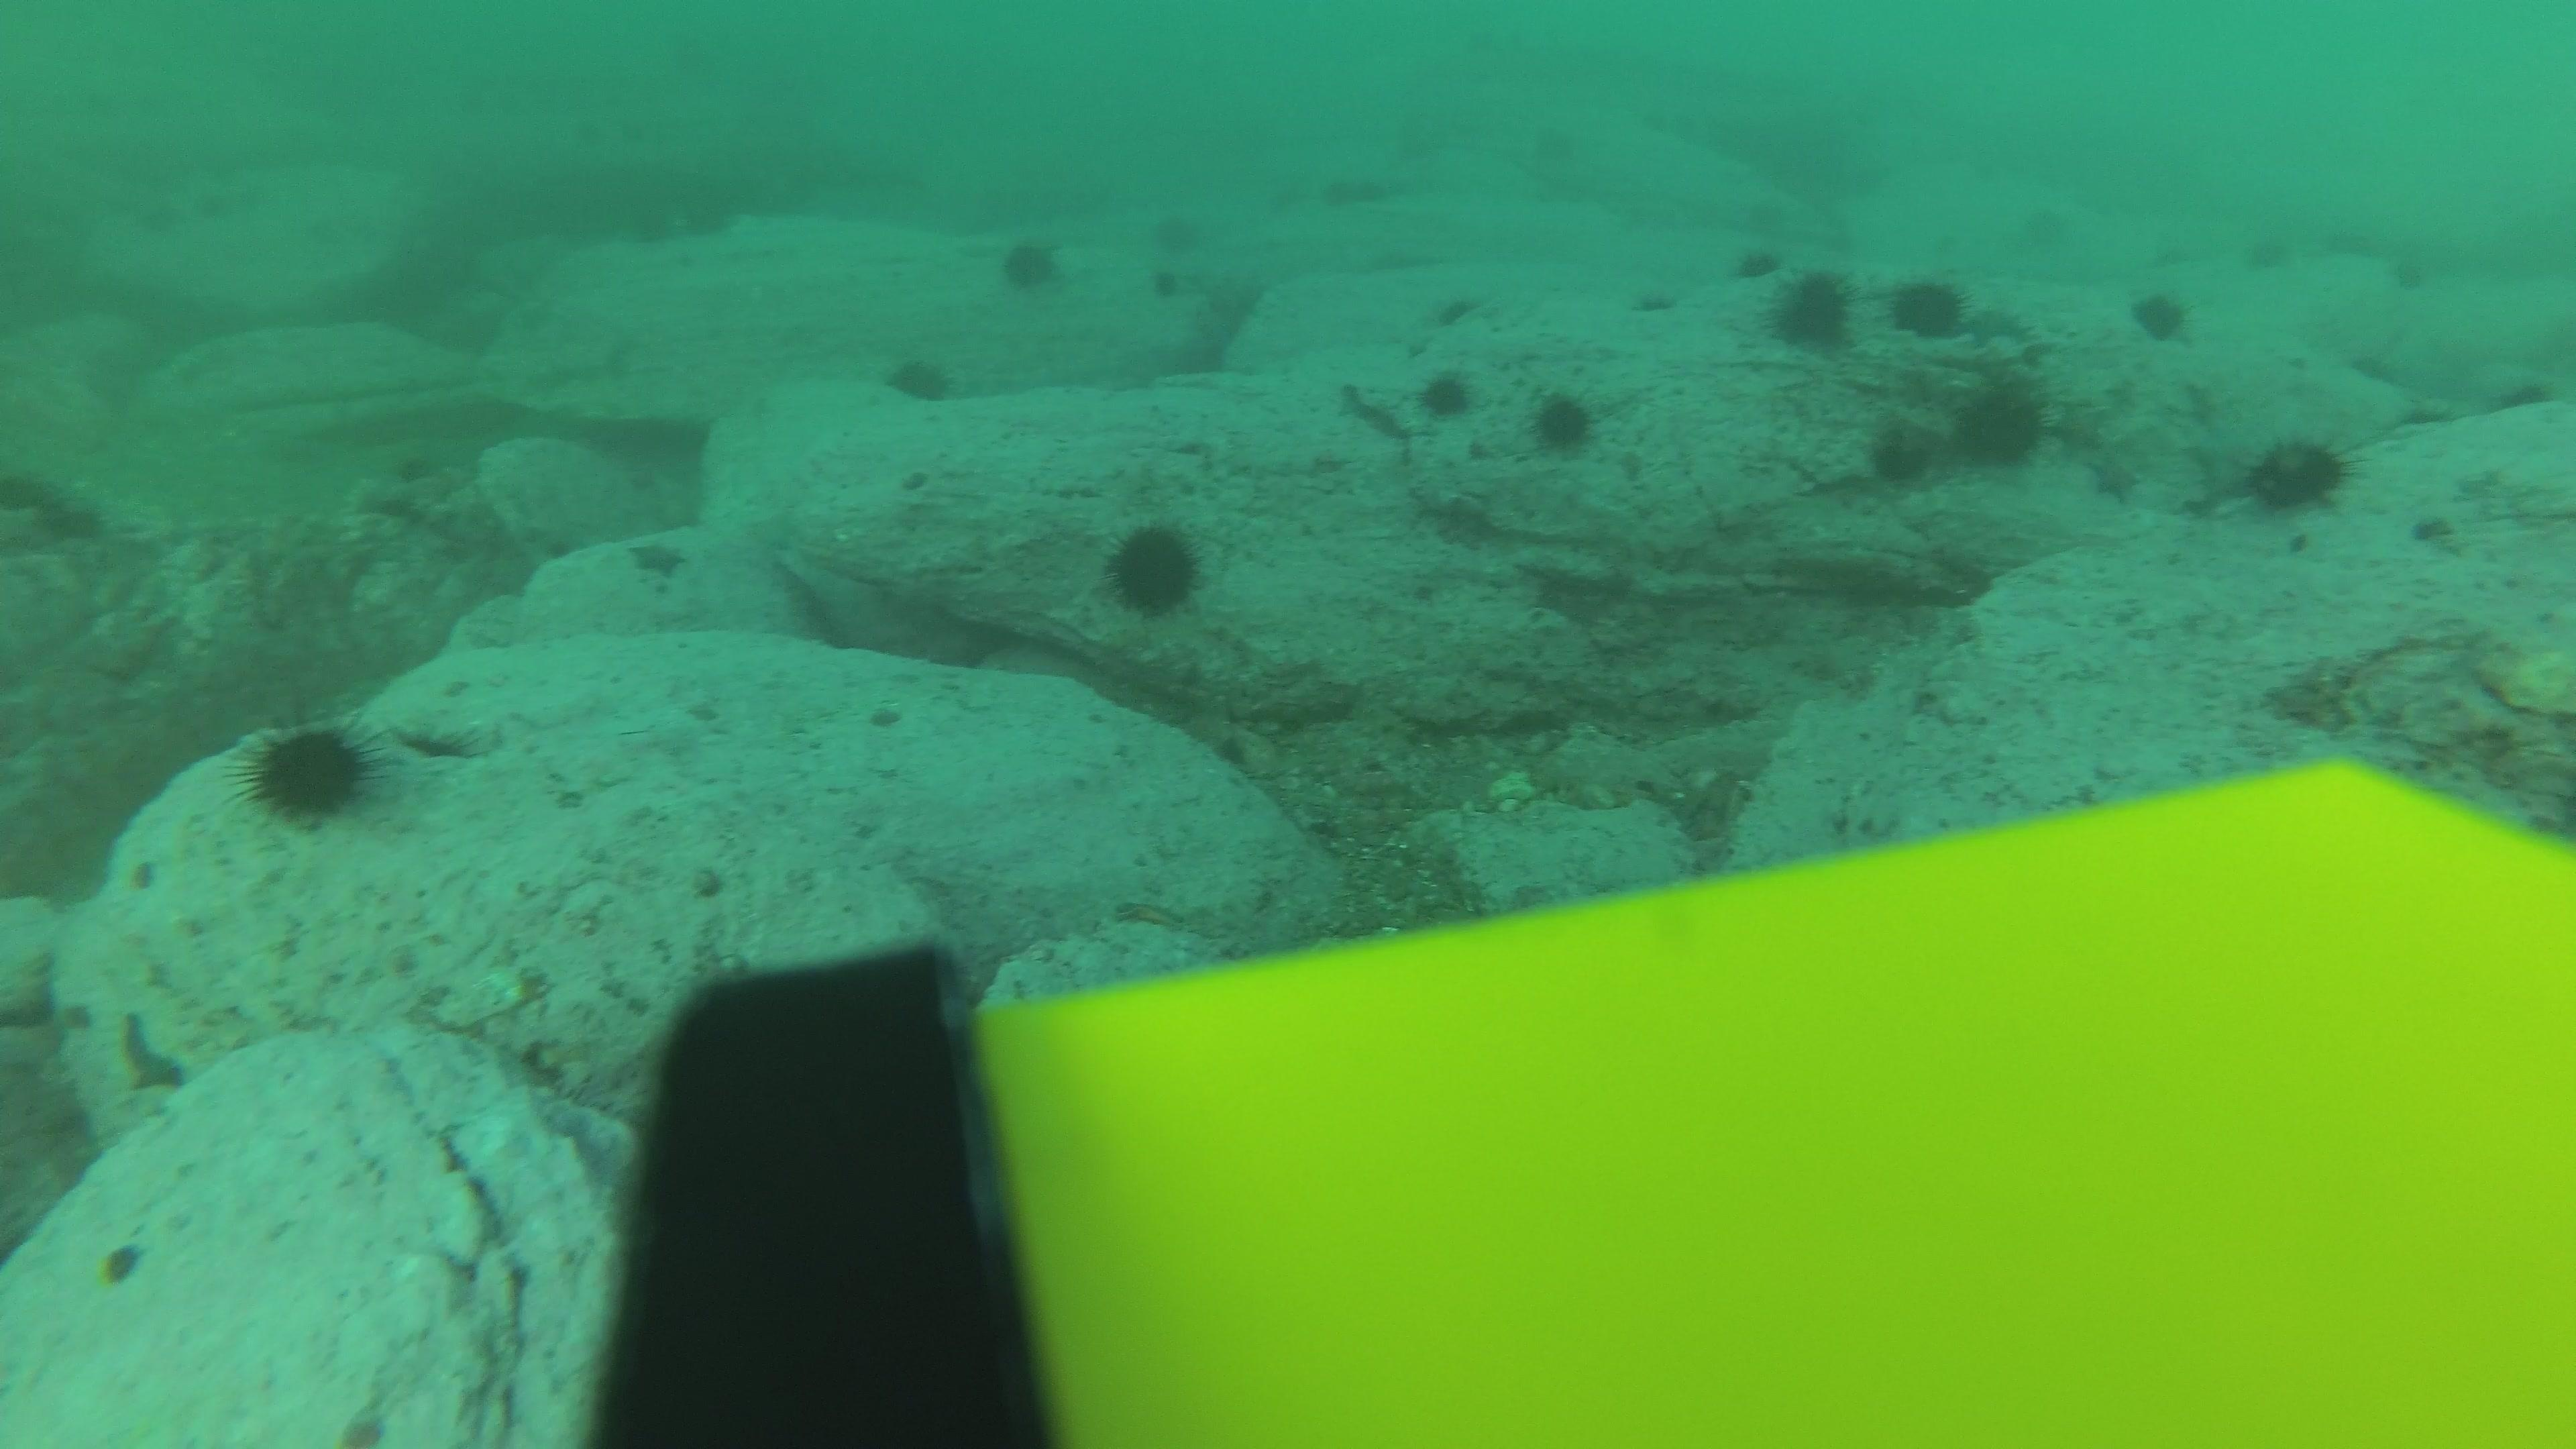echinus: (239, 715, 380, 828), (1100, 517, 1208, 619), (2240, 430, 2353, 518), (1950, 375, 2049, 472), (1764, 265, 1854, 352), (382, 711, 492, 777), (1888, 271, 1971, 343), (1527, 384, 1601, 456), (1865, 421, 1934, 488), (883, 347, 957, 407), (996, 232, 1065, 295), (2128, 283, 2192, 345), (1415, 366, 1474, 421), (2396, 395, 2459, 439), (2495, 377, 2558, 421), (2339, 345, 2403, 389), (678, 196, 736, 244), (357, 494, 426, 533), (619, 203, 678, 249), (377, 448, 432, 483), (1316, 165, 1357, 209), (1138, 258, 1178, 301), (1437, 294, 1477, 336), (2028, 200, 2068, 242), (1739, 242, 1778, 287), (2330, 219, 2369, 264), (188, 189, 234, 226), (1159, 203, 1198, 246), (1637, 285, 1675, 327), (1357, 170, 1396, 212), (2254, 235, 2293, 278), (2388, 255, 2427, 297)
starfish: (115, 1008, 191, 1097), (1109, 890, 1215, 936), (1338, 379, 1412, 444), (1960, 299, 2031, 349), (2086, 451, 2143, 506), (626, 534, 688, 584)
